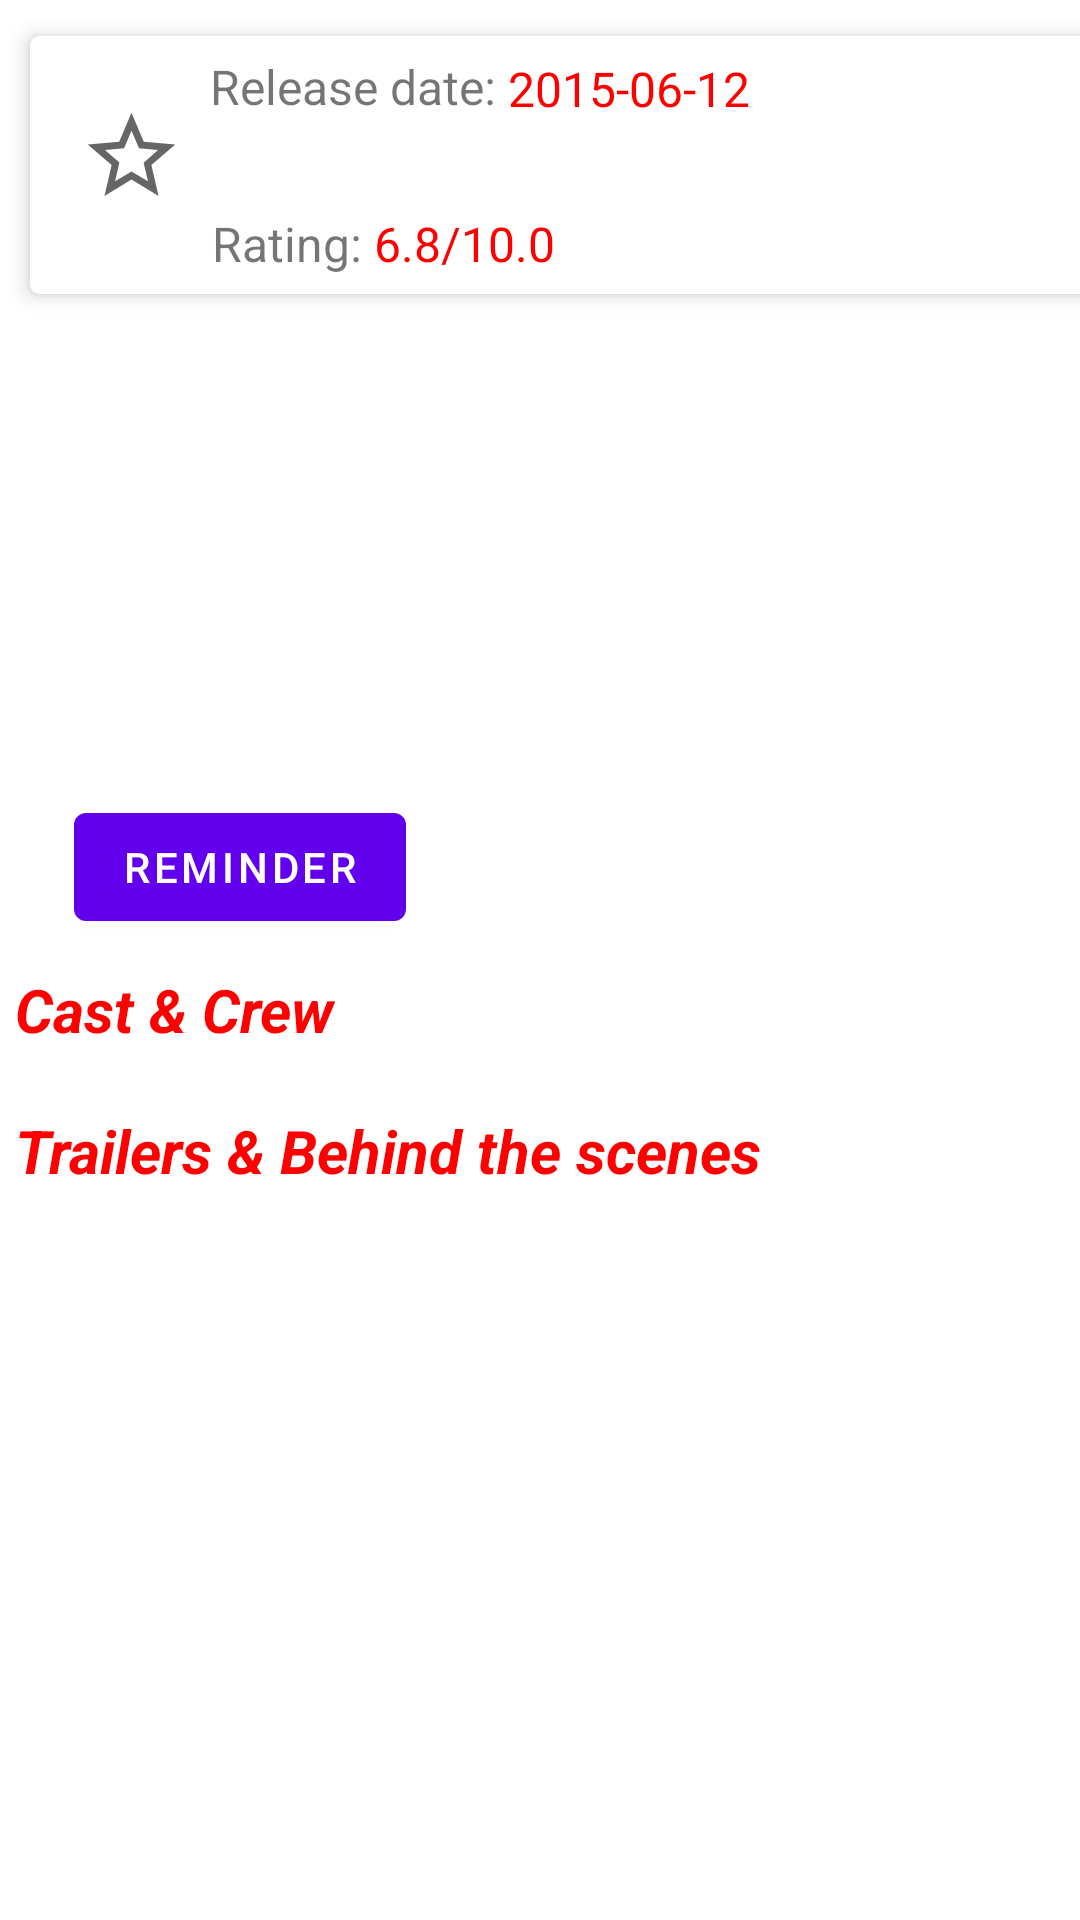

Icons on this 1080*1920 Android screen, each with its box as Rect(x1, y1, x2, y2):
star: Rect(88, 113, 175, 196)
